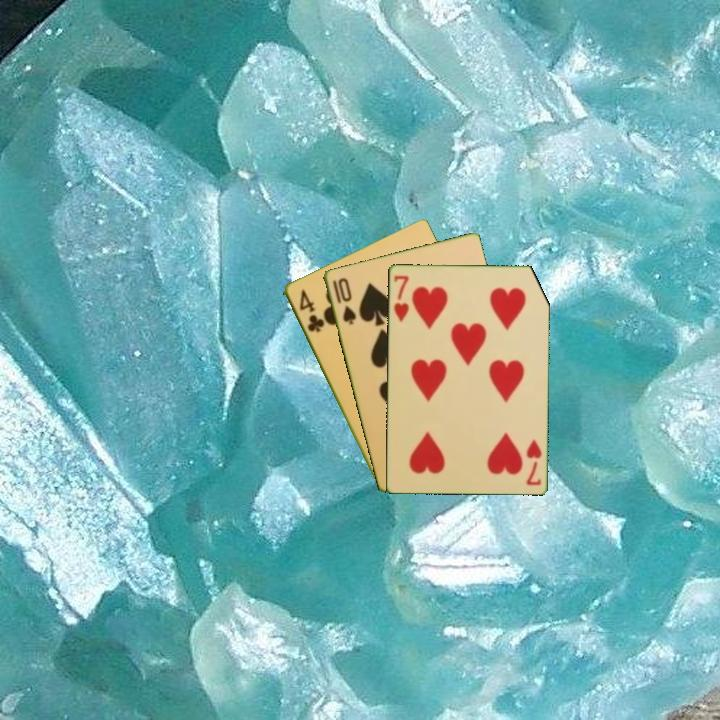10s: (329, 274, 359, 327)
4c: (295, 285, 326, 335)
7h: (522, 435, 544, 488), (390, 272, 411, 324)
